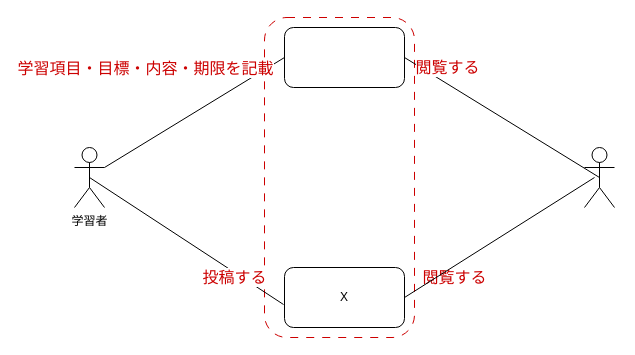
Some shapes in this 635 by 355 pixel diagram are drawn without their labels. Here are the shapes that lost their labels. From the top down, the centre of each, then its label:
point 344,57: ノート（紙、ペン）
point 599,177: 閲覧者
